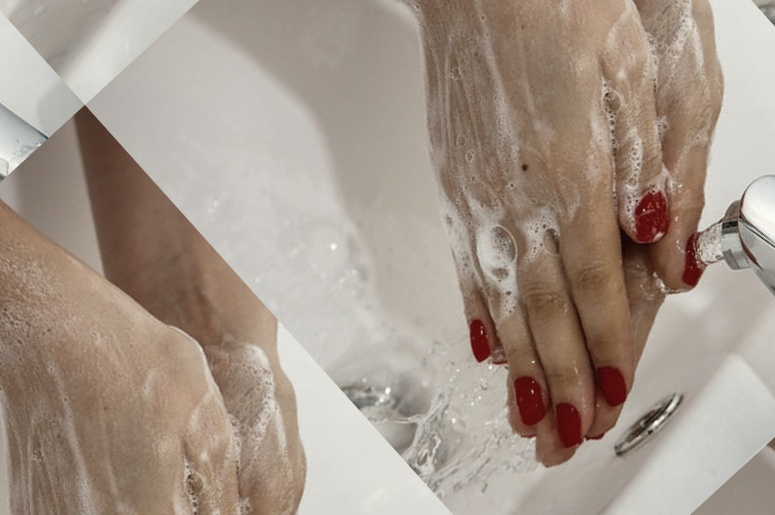washing hand: (226, 0, 774, 514)
